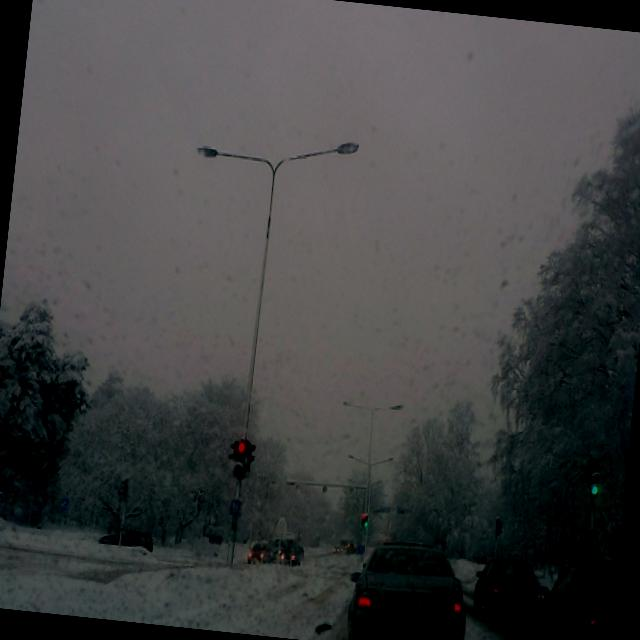Vehicle: (344, 532, 476, 640), (534, 554, 616, 640), (470, 554, 552, 628), (98, 525, 154, 552), (247, 538, 277, 570), (280, 544, 304, 566)
